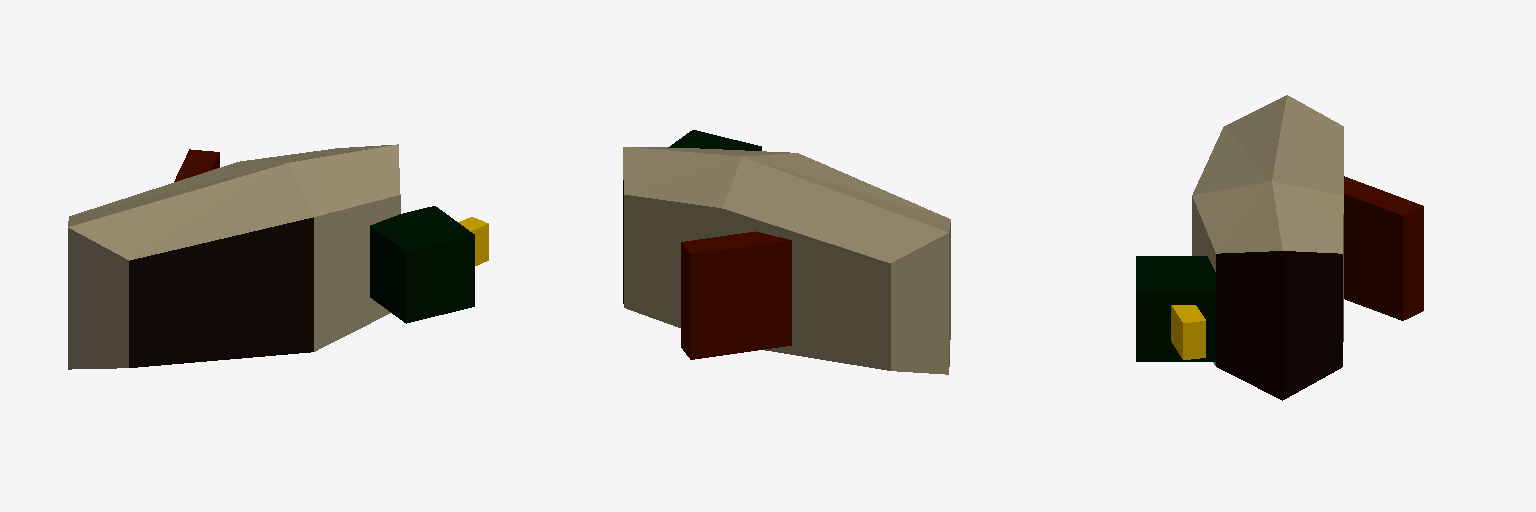
The model's file is duck.obj.
The picture shows the model from 3 angles: view 1: azimuth 30°, elevation 25°; view 2: azimuth 150°, elevation 25°; view 3: azimuth 270°, elevation 25°; orthographic projection.
Size of the model in its own units: 1.76 by 0.8135 by 1.19.